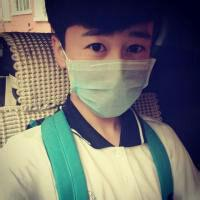face_mask: (67, 10, 155, 112)
